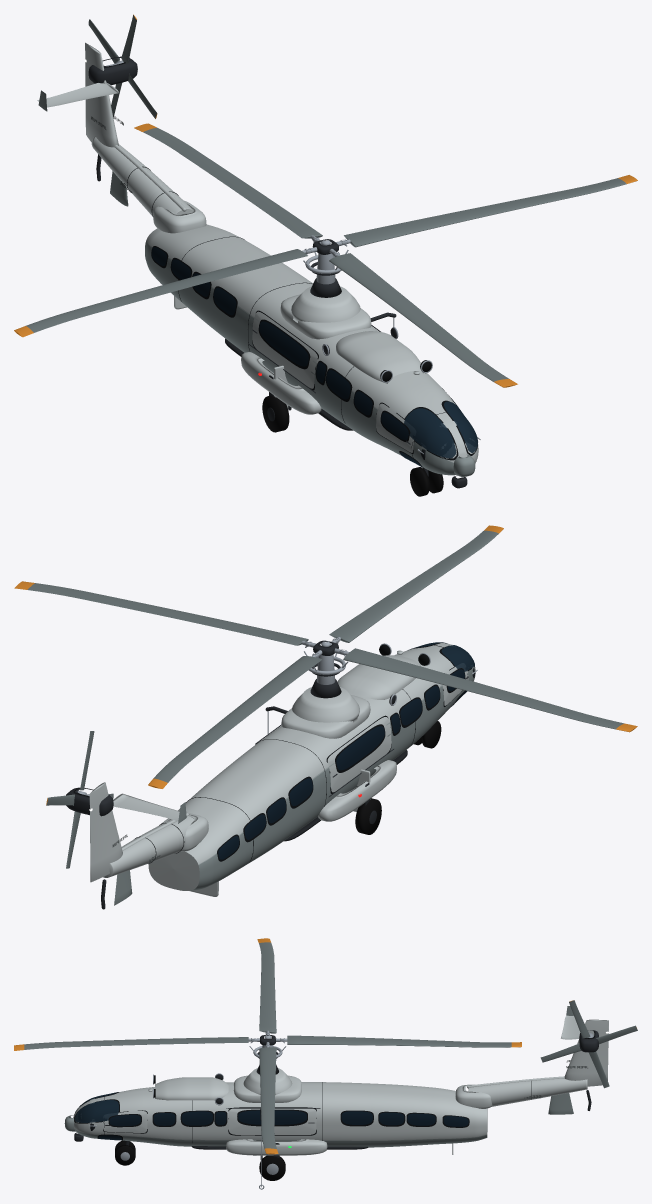
The model's file is super-puma.glb.
The picture shows the model from 3 angles, top to bottom: view 1: azimuth 30°, elevation 25°; view 2: azimuth 150°, elevation 25°; view 3: azimuth 270°, elevation 25°; orthographic projection. The views are drawn at different scales.
Visible parts, largest first — view 1: Fuselage_cabine, Pale_4, Pale_1, Pale_3, Poutre_de_queue, Pale_2, sliding_door_lh, vertical_fin, main_gearbox_cowling, engine_lh, sponson_lh, windshield_lh (+10 smaller); view 2: Fuselage_cabine, Pale_3, Pale_2, Pale_4, Pale_1, sliding_door_lh, Poutre_de_queue, vertical_fin, main_gearbox_cowling, sponson_lh, gearbox_base_fairing, engine_lh (+8 smaller); view 3: Fuselage_cabine, sliding_door_rh, Poutre_de_queue, Pale_2, Pale_1, vertical_fin, Pale_4, Pale_3, sponson_rh, engine_rh, Tail_rotor_blades, cockpit_door_rh (+13 smaller).
Boxes of the visible parts, box(x1,y1,x2,y2) form: Fuselage_cabine: box(145, 224, 478, 475); Pale_4: box(329, 253, 517, 387); Pale_1: box(344, 175, 637, 247); Pale_3: box(14, 249, 307, 337); Poutre_de_queue: box(91, 136, 192, 216); Pale_2: box(134, 123, 322, 238); sliding_door_lh: box(248, 310, 318, 393); vertical_fin: box(85, 42, 118, 147); main_gearbox_cowling: box(291, 286, 360, 322); engine_lh: box(336, 333, 405, 383); sponson_lh: box(241, 351, 321, 414); windshield_lh: box(404, 407, 458, 460); Fuselage_cabine: box(148, 643, 475, 890); Pale_3: box(343, 648, 637, 732); Pale_2: box(148, 656, 322, 788); Pale_4: box(329, 525, 503, 642); Pale_1: box(14, 581, 308, 645); sliding_door_lh: box(326, 715, 393, 796); Poutre_de_queue: box(103, 813, 194, 877); vertical_fin: box(89, 782, 122, 882); main_gearbox_cowling: box(292, 687, 359, 722); sponson_lh: box(318, 760, 396, 821); gearbox_base_fairing: box(281, 695, 370, 738); engine_lh: box(353, 657, 420, 699); Fuselage_cabine: box(73, 1082, 487, 1147); sliding_door_rh: box(226, 1107, 320, 1135); Poutre_de_queue: box(467, 1076, 587, 1106); Pale_2: box(287, 1035, 521, 1047); Pale_1: box(259, 1047, 278, 1154); vertical_fin: box(564, 1019, 608, 1086); Pale_4: box(14, 1037, 248, 1050); Pale_3: box(257, 938, 276, 1033); sponson_rh: box(226, 1139, 327, 1157); engine_rh: box(155, 1082, 228, 1100); Tail_rotor_blades: box(540, 1000, 637, 1088); cockpit_door_rh: box(103, 1110, 147, 1133).
Size of what is drawn, in the model's own units: 16.2 by 6.19 by 19.9.
Materials: 26 (4 with a texture image).
